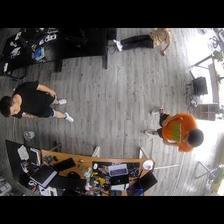fall: (112, 29, 174, 58)
normal: (2, 81, 75, 129), (144, 105, 205, 158)
